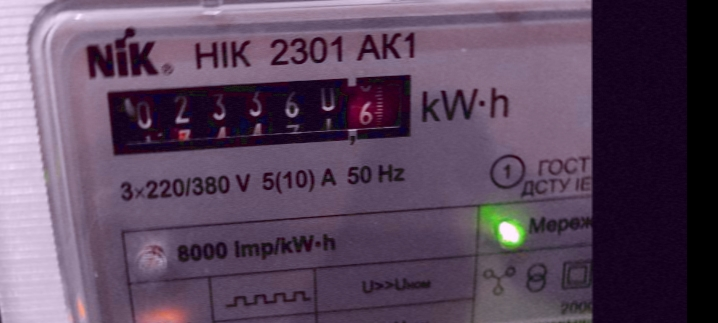0: (131, 98, 153, 132), (314, 83, 336, 115)
2: (170, 93, 190, 126)
3: (244, 86, 263, 119), (206, 92, 225, 123)
6: (279, 88, 300, 121), (354, 96, 375, 129)
screen: (89, 66, 427, 162)
